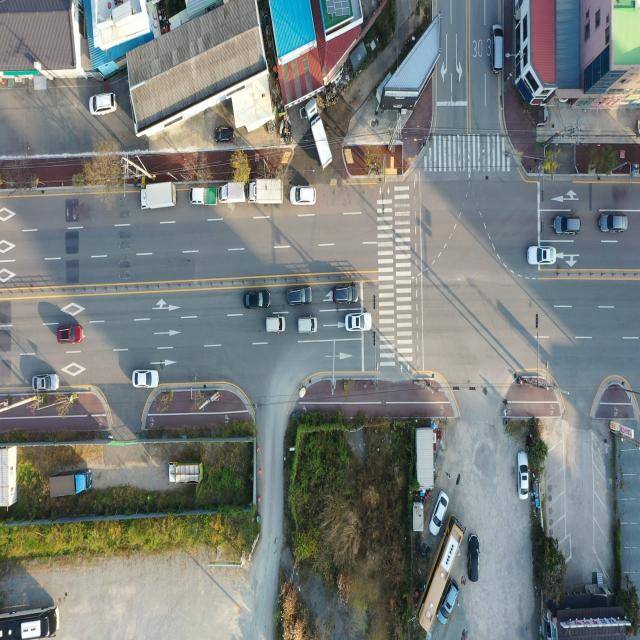car: (428, 489, 450, 536), (437, 579, 459, 619), (467, 531, 481, 584), (90, 92, 118, 116), (287, 284, 313, 308), (600, 213, 628, 234), (527, 246, 555, 266), (333, 284, 360, 304), (492, 23, 503, 72), (554, 216, 580, 236), (292, 184, 317, 204), (33, 374, 59, 393), (519, 453, 529, 501), (247, 291, 272, 310), (132, 369, 158, 387), (58, 324, 82, 343), (347, 314, 372, 332), (266, 316, 286, 334), (299, 317, 318, 334), (214, 127, 233, 144)
large_bus: (416, 516, 462, 638), (0, 606, 62, 640)
medium_truck: (302, 100, 334, 168), (48, 467, 90, 502), (140, 181, 180, 212), (251, 178, 284, 205)
small_truck: (168, 460, 205, 485), (218, 175, 247, 206), (187, 184, 218, 206)
